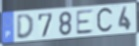4: (117, 6, 133, 33)
7: (37, 12, 54, 38)
8: (58, 11, 73, 37)
C: (95, 6, 115, 35)
D: (16, 13, 35, 41)
E: (75, 8, 95, 36)
